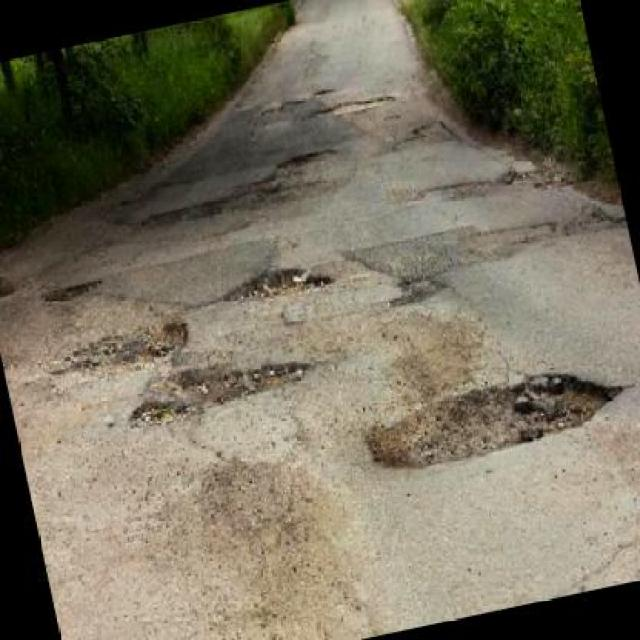pothole1: (352, 351, 631, 482), (118, 338, 319, 434), (61, 314, 192, 381), (216, 255, 333, 308), (382, 266, 449, 314), (308, 88, 397, 120), (35, 272, 102, 306), (272, 142, 338, 172), (0, 272, 18, 299)
